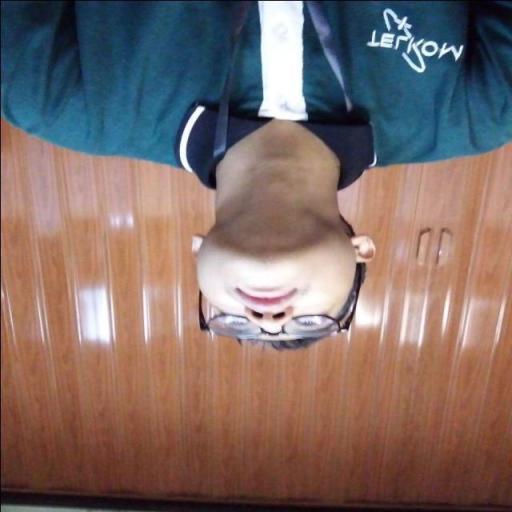glasses: (184, 310, 354, 352)
